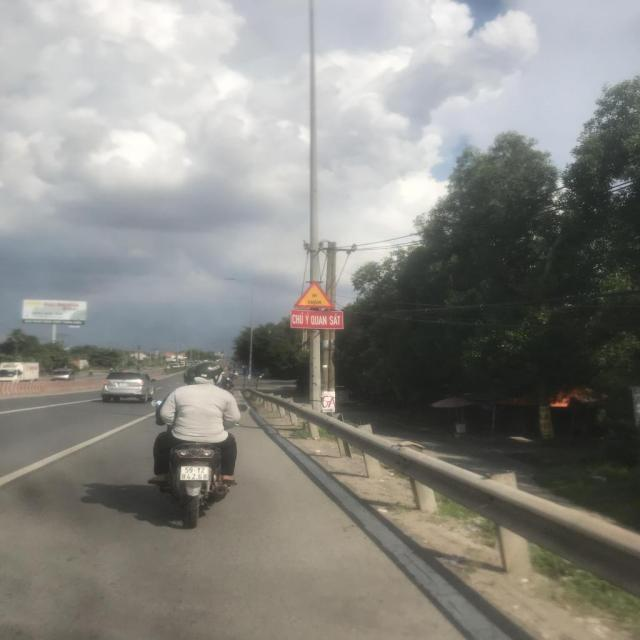245-di-cham: (293, 282, 335, 308)
